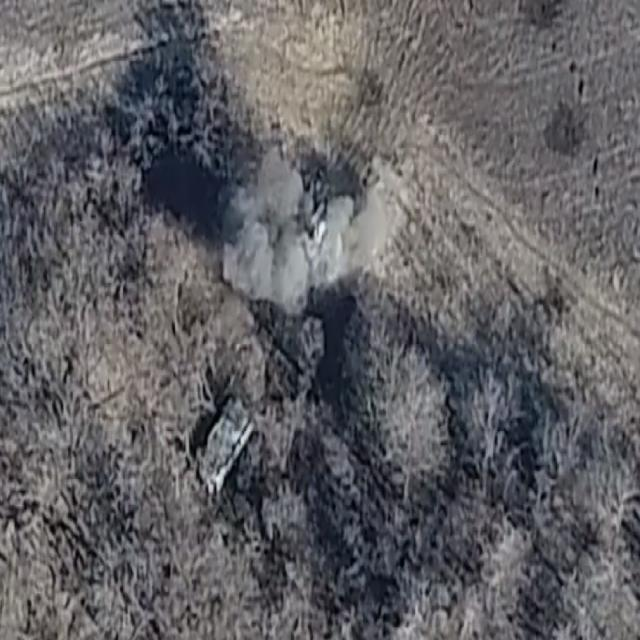tank: (190, 392, 260, 496)
